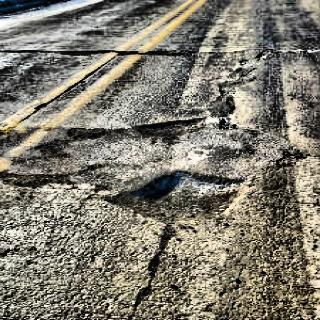crack: (104, 197, 178, 309), (268, 144, 307, 170)
pothole: (116, 168, 243, 224), (130, 119, 208, 145), (0, 173, 75, 189), (35, 138, 74, 160), (65, 126, 116, 142)
